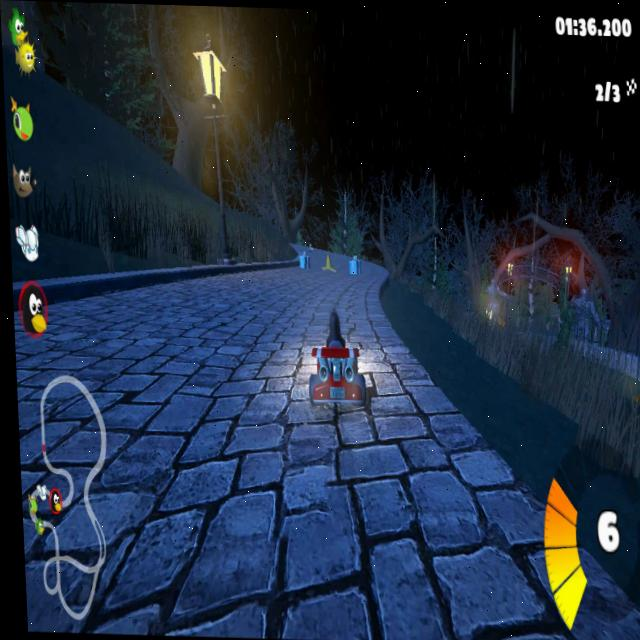bonus: (346, 254, 365, 278), (296, 249, 312, 272)
obstacle: (321, 246, 336, 277)
player_kart: (301, 314, 369, 410)
